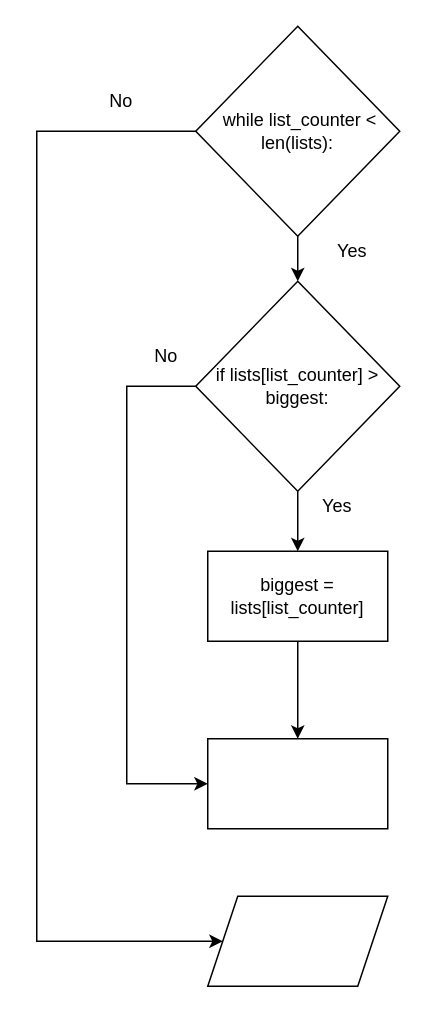
Image size: 426x1013. Some labels were removed from this diagram. The shapes that lost their labels are listed below. From the top down, each one's centre as x and y in pixels, then its label:
At [297,783]: "list_counter = list_counter + 1".
At [297,940]: "Return biggest".
